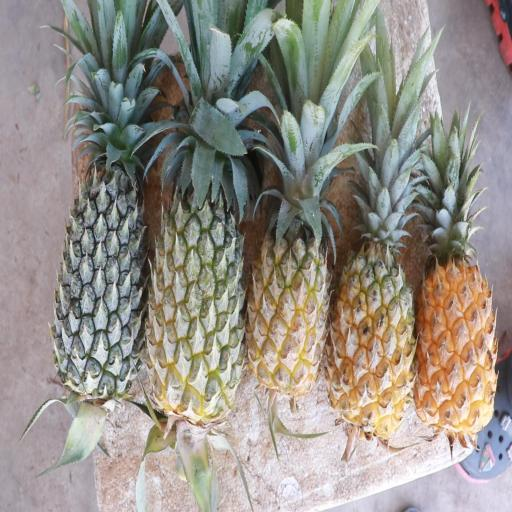------------------------------: (151, 149, 241, 413)
Pineapple - v8 v1: (332, 197, 416, 429), (250, 164, 330, 391), (419, 220, 498, 426)
